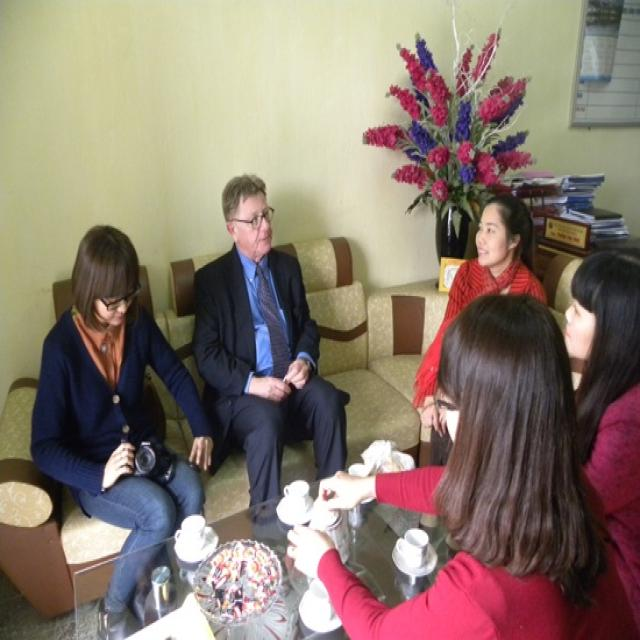body: (285, 291, 637, 640), (27, 221, 216, 640), (187, 169, 354, 511), (416, 190, 552, 546), (559, 250, 640, 638)
